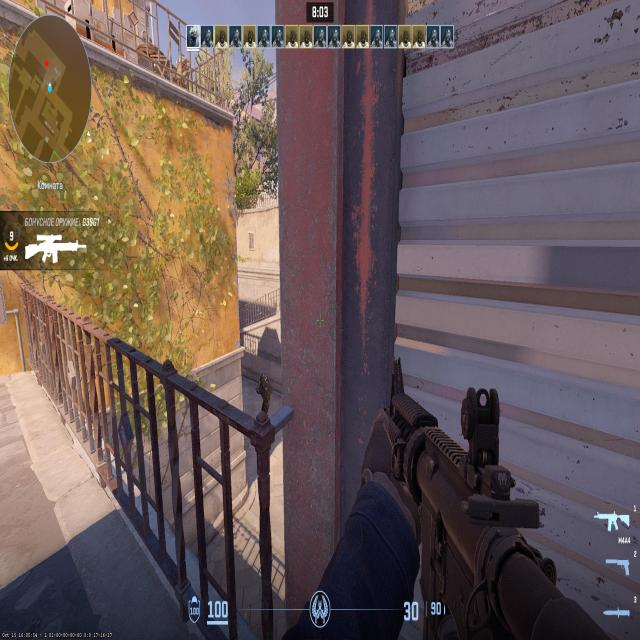CT: (256, 372, 269, 418)
CT_heat: (261, 376, 266, 387)
